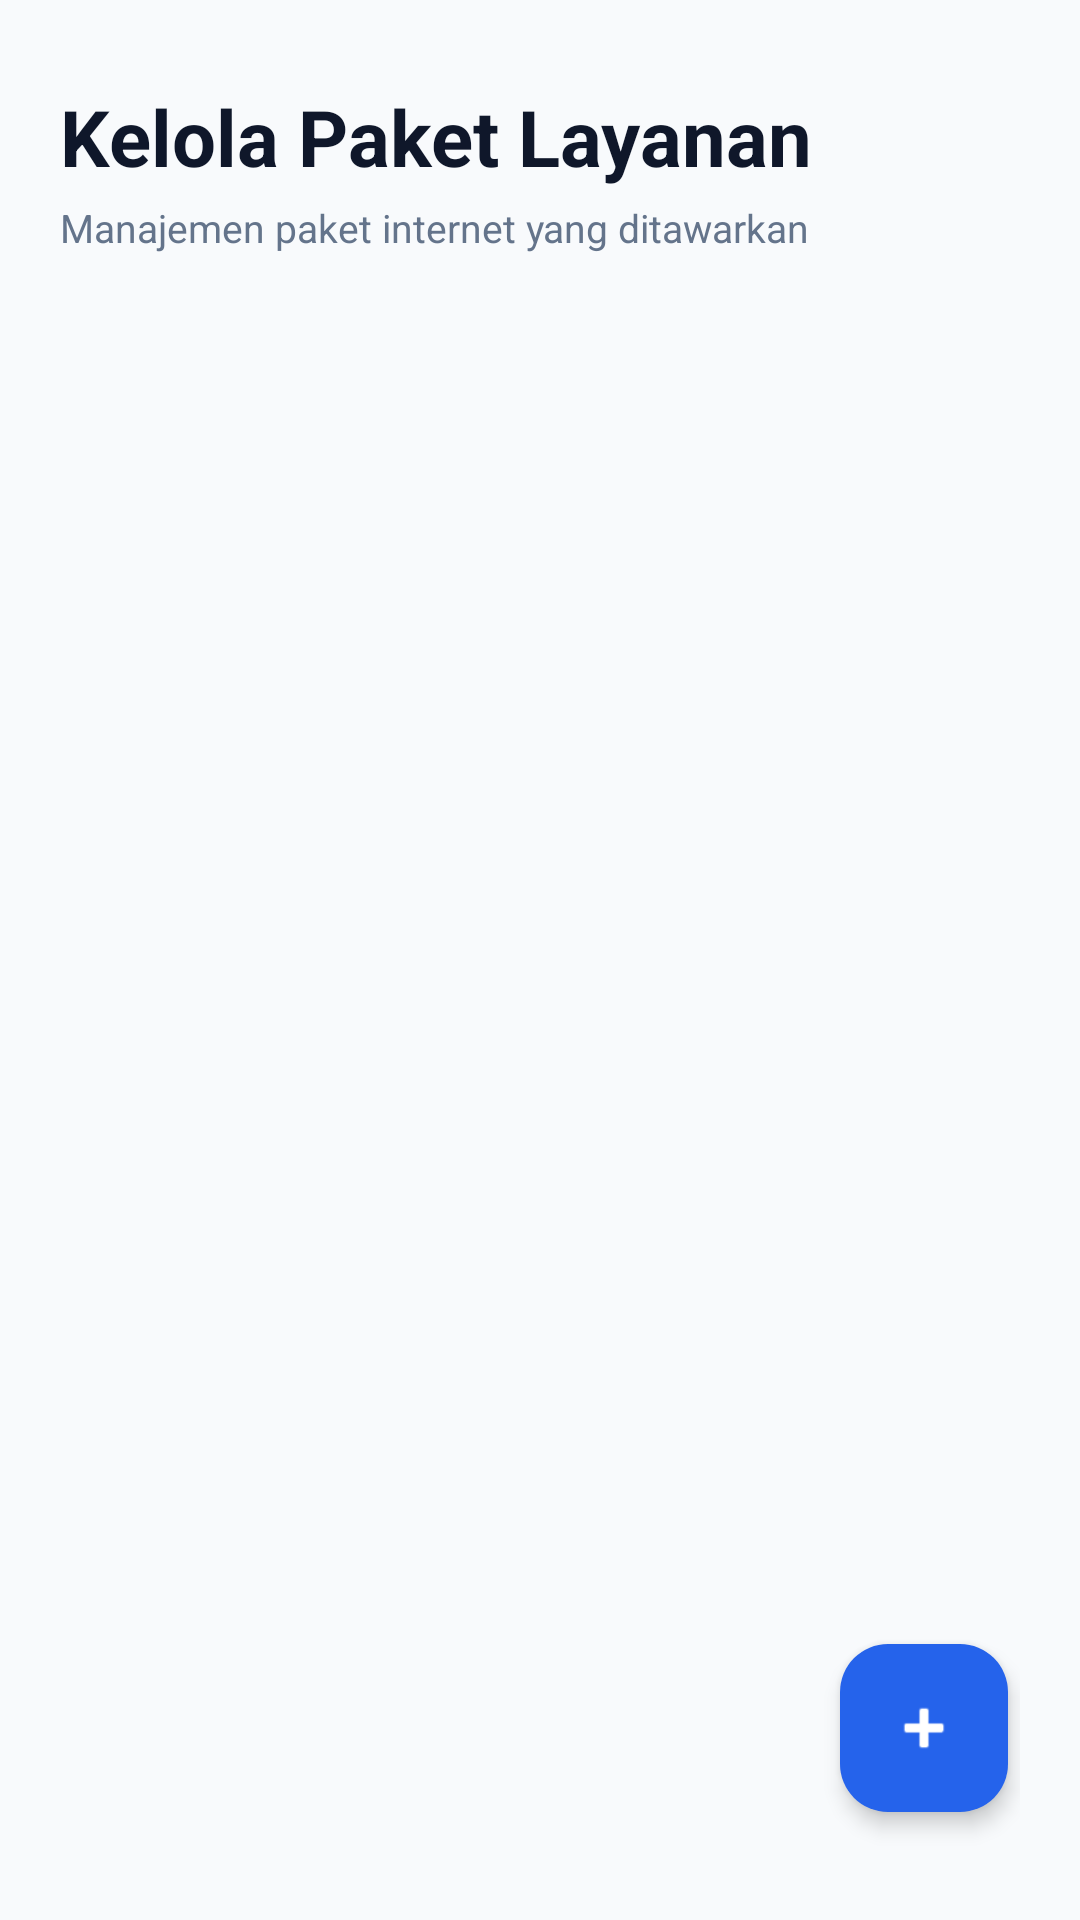

Icons on this 1080px×1920px Android screen, each with the point to tap as (x=x, y=y):
Tambah Paket: (x=924, y=1728)
